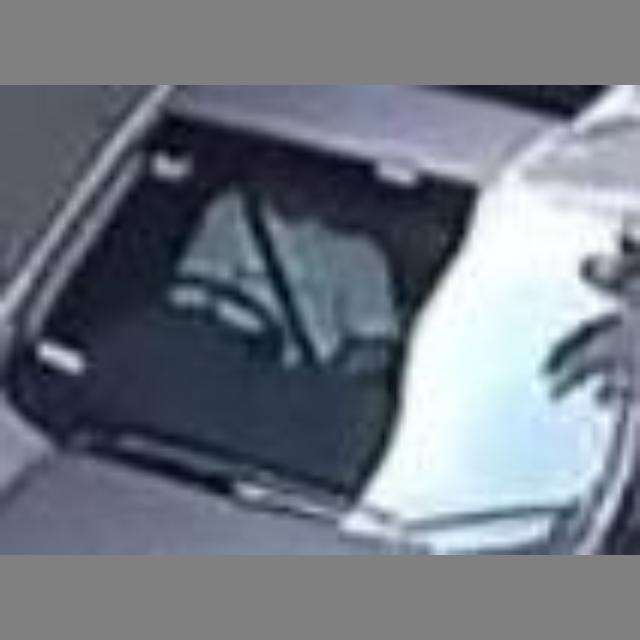pakai: (127, 170, 441, 417)
